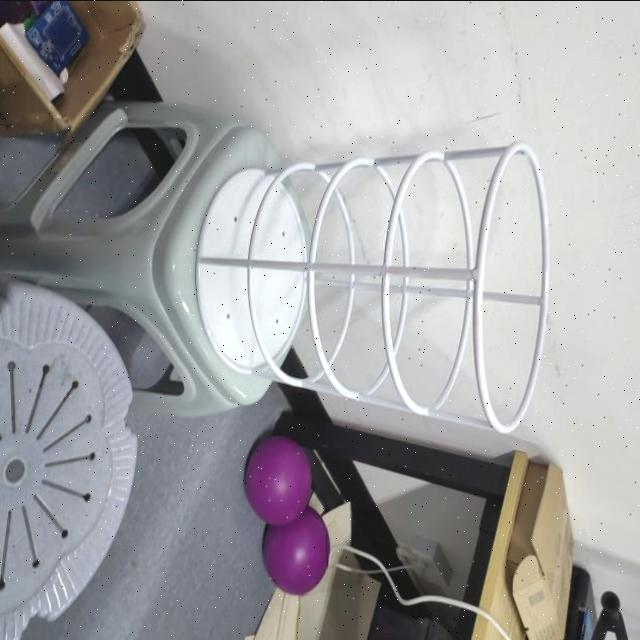P: (242, 436, 312, 526), (262, 506, 331, 594)
S: (191, 137, 553, 436)
